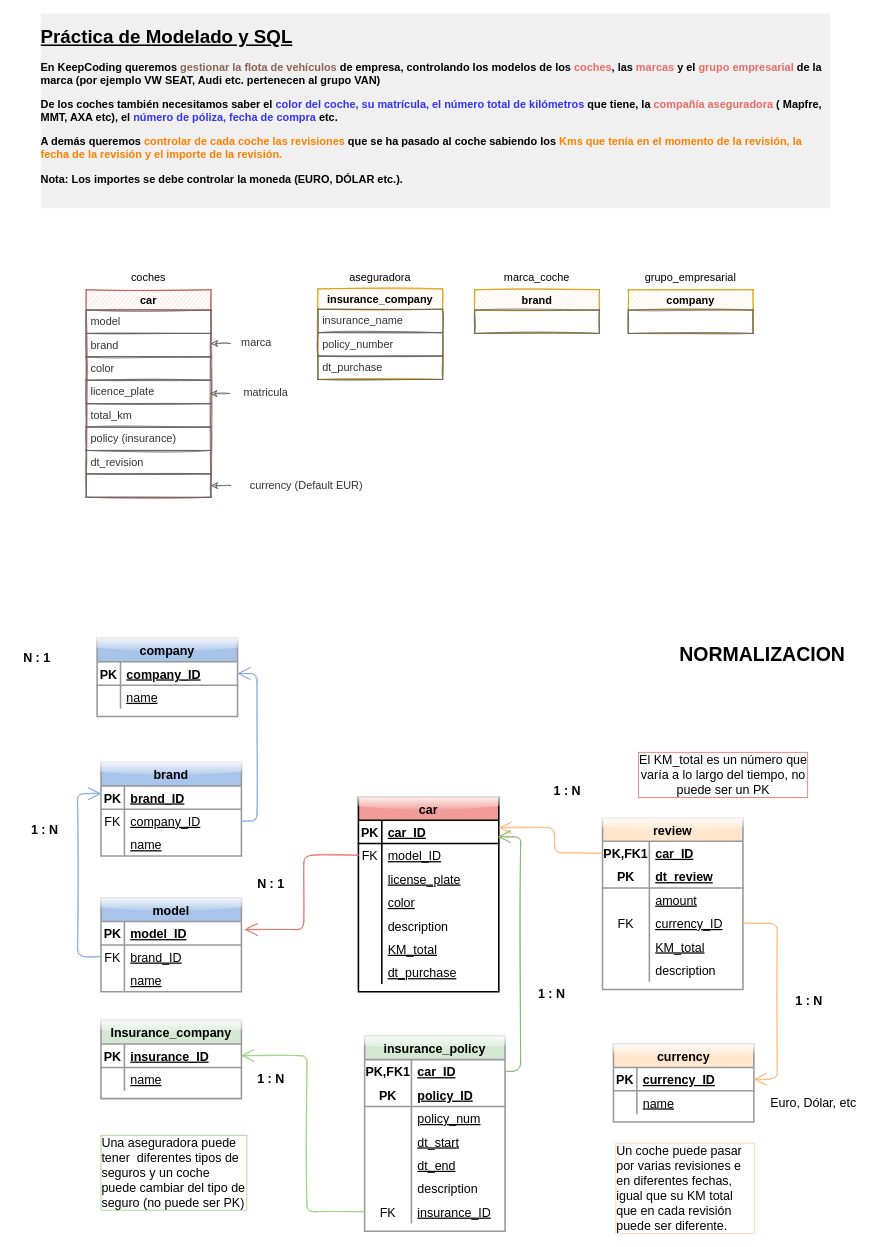
Image size: 877x1247. Some labels were removed from this diagram. The centre of each missing label's shape, as x and y in pixels:
brand_name: [536,321]
company_name: [690,321]
revision_amount: [148,485]
